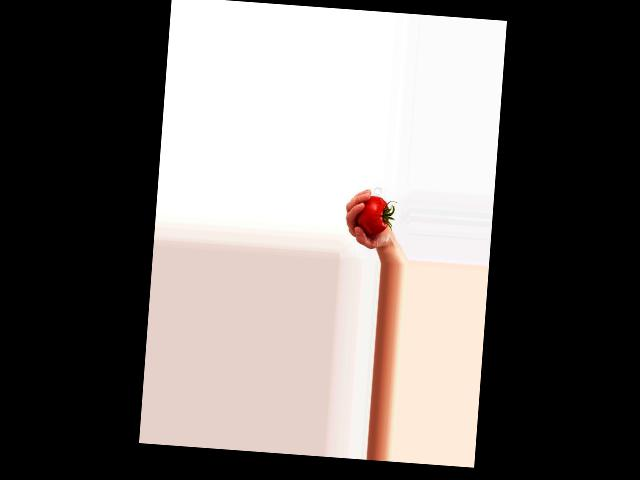tomato: (354, 195, 390, 235)
